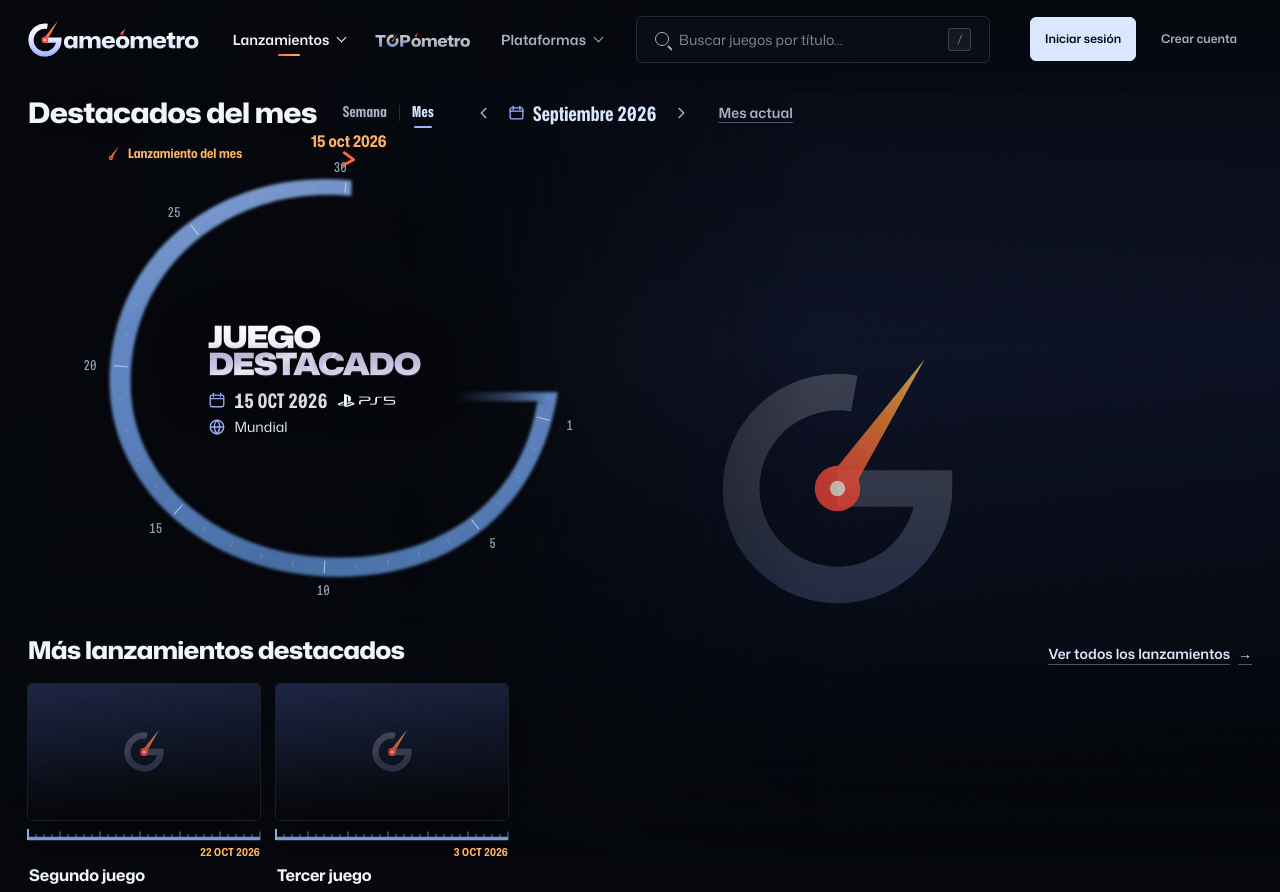
featured releases page › steps through months in the URL and offers the way back to the current month
Expected: the element "Juego destacado" is shown, [28,140,1252,616]
Expected: the heading "Destacados del mes" is shown, [28,97,317,128]
What coordinates should you click on to do the following:
click the link named "Mes siguiente: octubre de 2026"
I would click on:
 (680, 112)
Its box is [672,104,690,122].
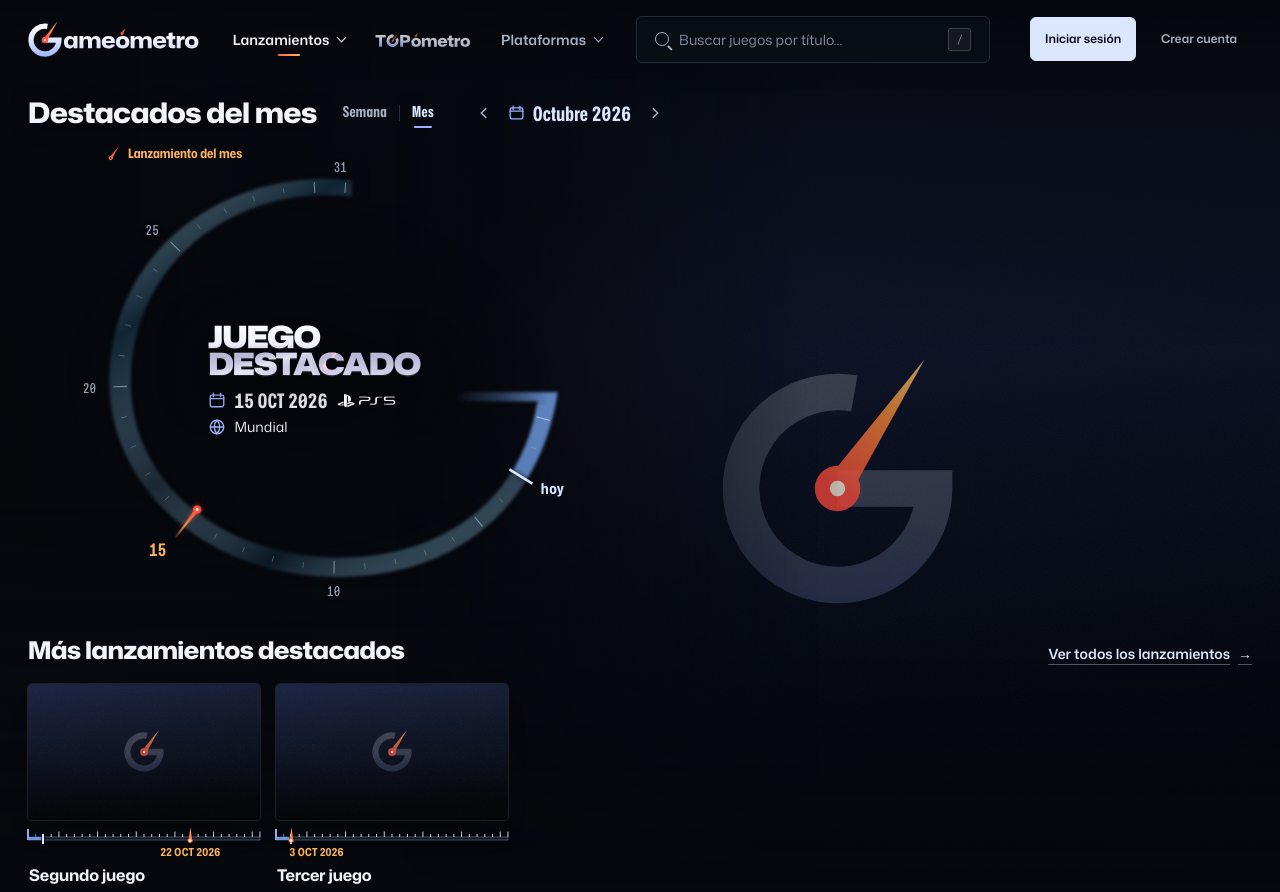
Now the text "Octubre 2026" is shown, box [533,98,631,128]
Now the link "Mes actual" is gone
